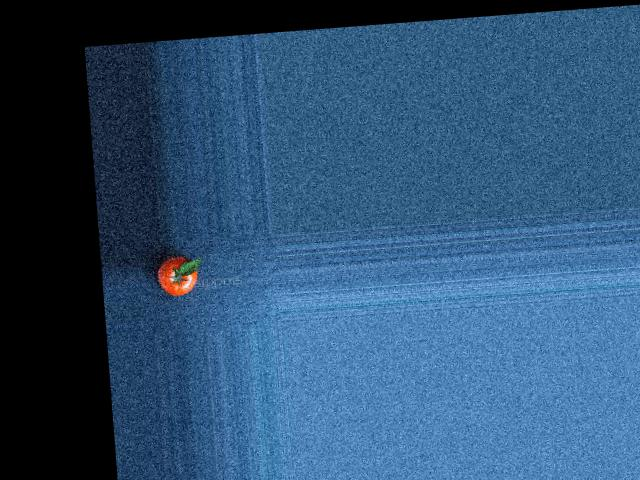tomato: (156, 255, 199, 296)
